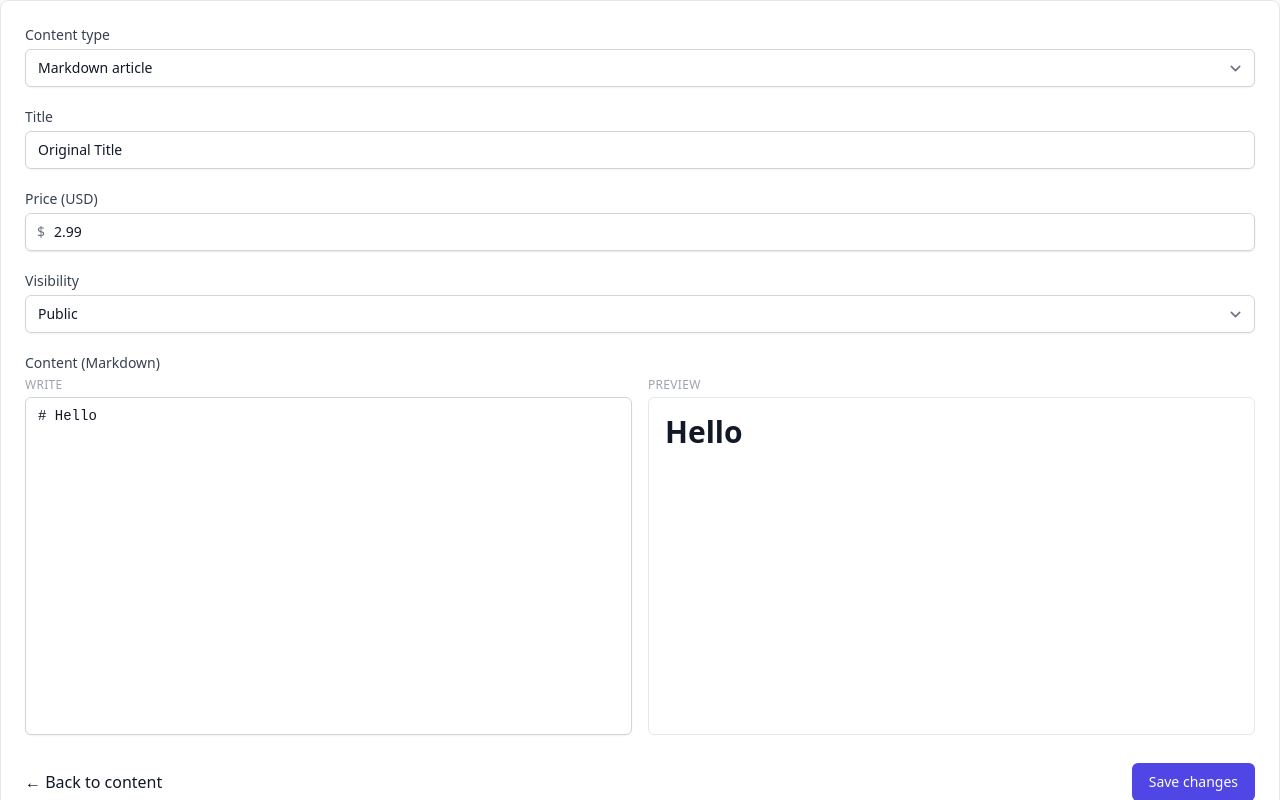
it: EditContentForm › toggling from markdown to external_ref shows URI fields and hides markdown editor
expect the text box named "markdown source" is shown: met, box [25,397,632,735]
expect the field labelled "content uri" is not shown: met
Select "External reference (video, PDF, link…)" in the dropdown labelled "Content type": {"x": 640, "y": 68} [25,49,1255,87]
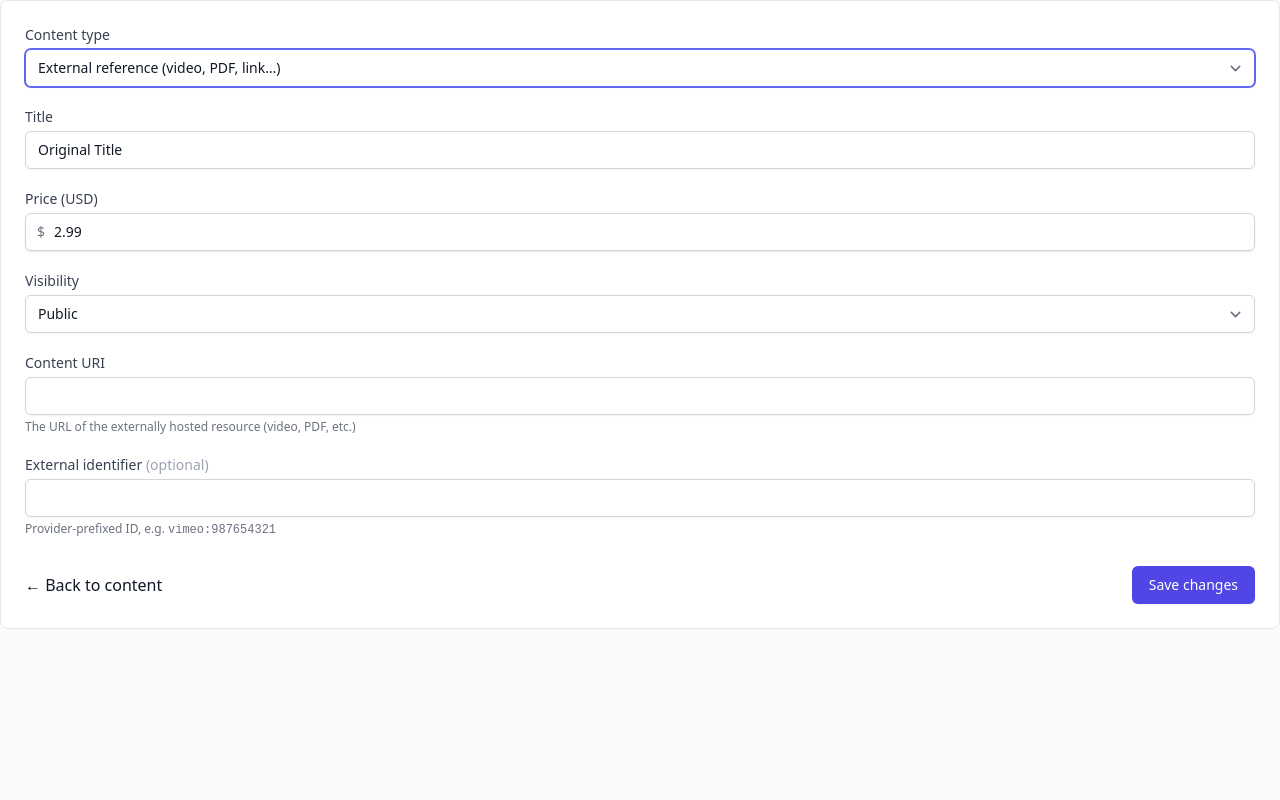
expect the field labelled "Content URI" is shown: met, box [25,377,1255,415]
expect the field labelled "External identifier (optional)" is shown: met, box [25,479,1255,517]
